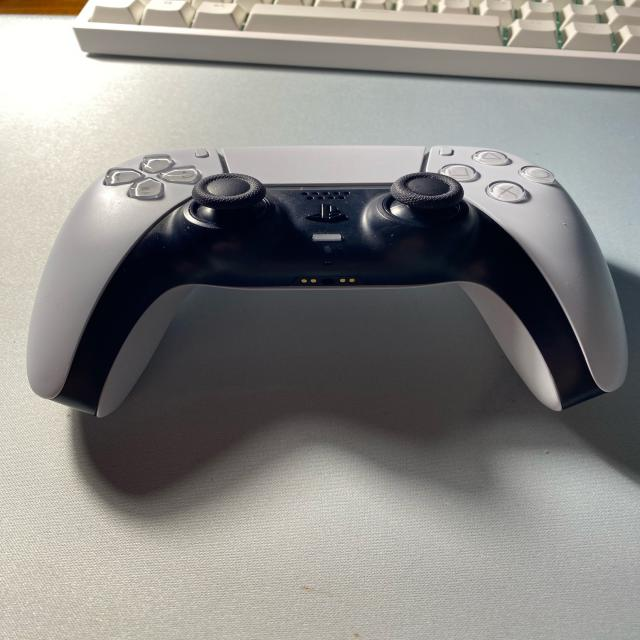dualsensePhoto: (28, 145, 627, 416), (57, 188, 598, 410), (95, 284, 195, 416), (460, 282, 562, 411), (223, 145, 425, 185), (103, 154, 202, 200), (190, 174, 267, 225), (387, 172, 463, 222), (192, 174, 265, 210), (485, 180, 530, 204), (438, 164, 480, 184), (407, 178, 450, 196), (518, 165, 555, 185), (207, 179, 250, 196), (307, 204, 347, 222), (292, 276, 362, 286), (440, 164, 478, 182), (472, 150, 512, 166), (312, 234, 342, 241), (438, 146, 453, 155), (195, 149, 207, 158)
